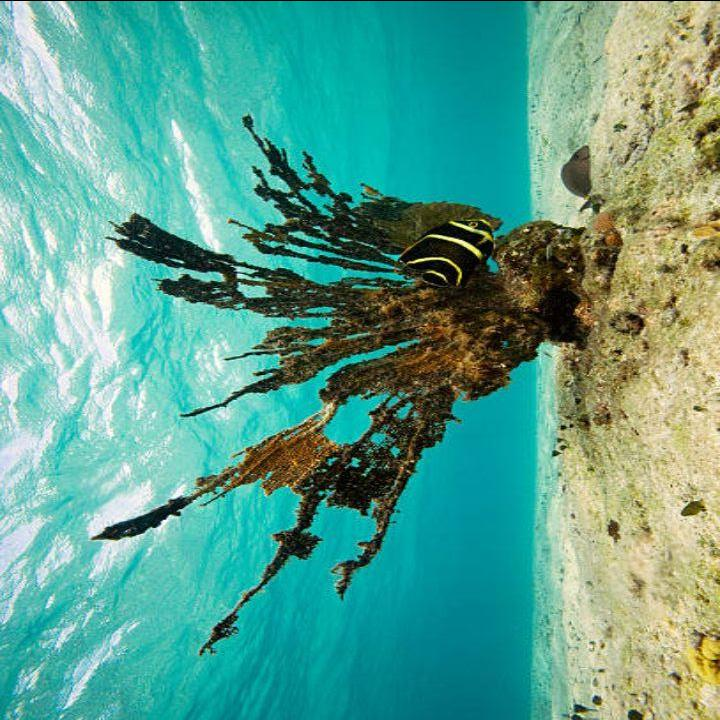Dead Coral: (85, 107, 595, 657)
